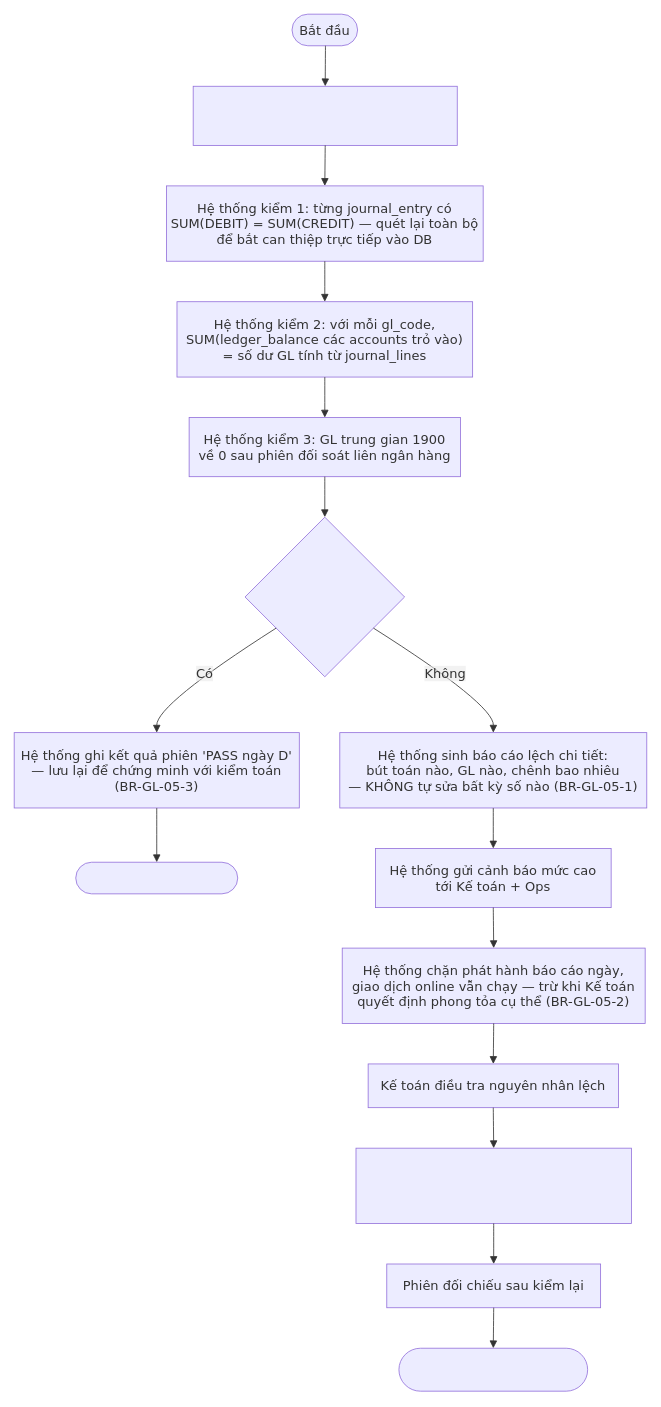
This 661x1407 diagram has some shape labels left out. Each missing label, with the centre of its shape:
"Cả 3 phép kiểm đều khớp?" belongs at [324,596].
"Kế toán sửa bằng bút toán ADJUSTMENT / REVERSAL có phê duyệt (qua GL-02 / GL-03)" belongs at [493,1185].
"Kết thúc — lệch đã ghi nhận, chờ phiên sau xác nhận" belongs at [493,1369].
"Kết thúc — sổ sách khớp" belongs at [156,877].
"Lịch EOD kích hoạt sau GL-04 (hoặc Kế toán chạy tay khi nghi ngờ)" belongs at [324,115].
